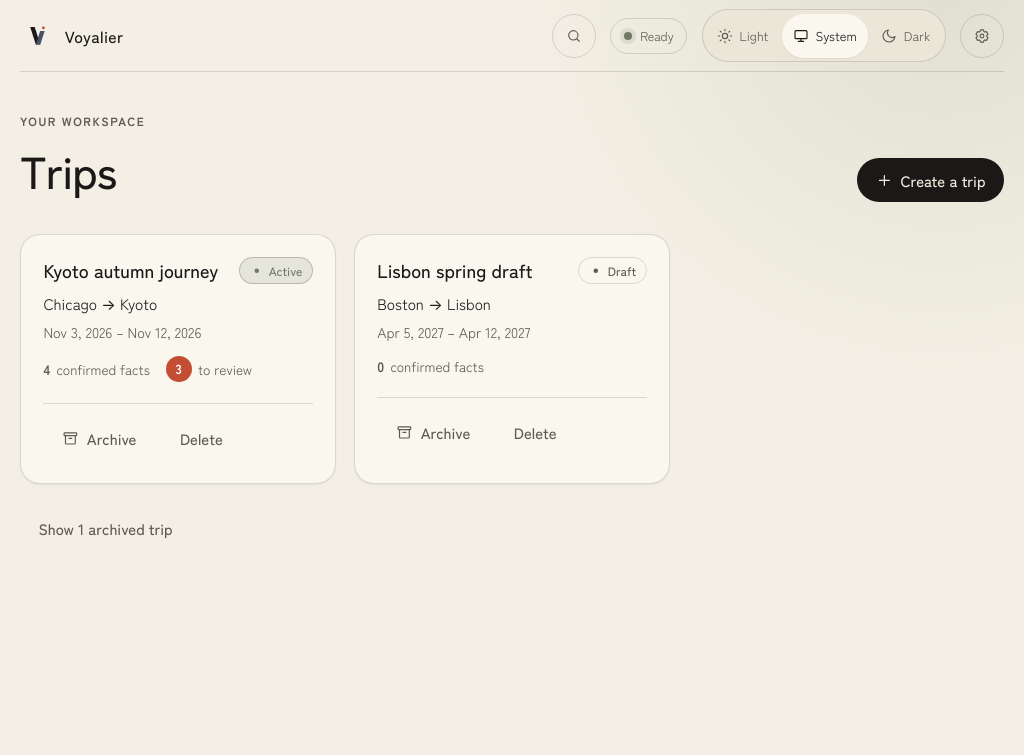
it: flight carbon estimate › says the total is a floor when a flight could not be resolved
The width and height of the screenshot is (1024, 755).
What coordinates should you click on to do the following:
click the button with aria-label "Open Kyoto autumn journey"
I would click on:
 (131, 270)
Its box is left=43, top=257, right=218, bottom=283.
(page scrolled)
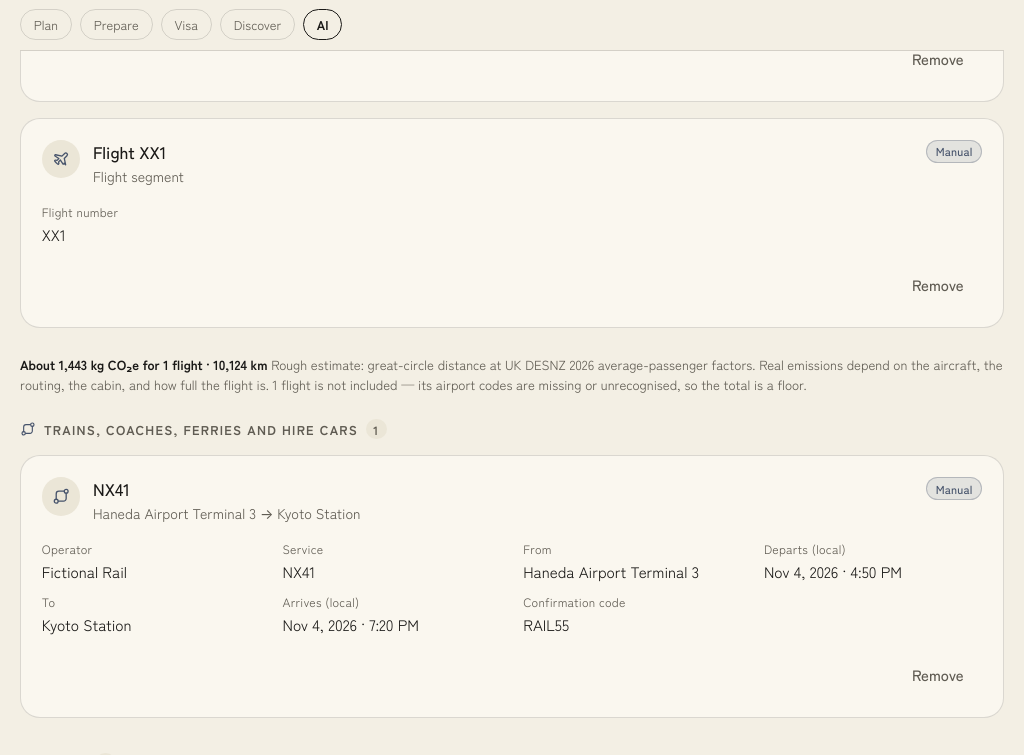
Result: the text "the total is a floor" is shown at left=273, top=375, right=807, bottom=394
